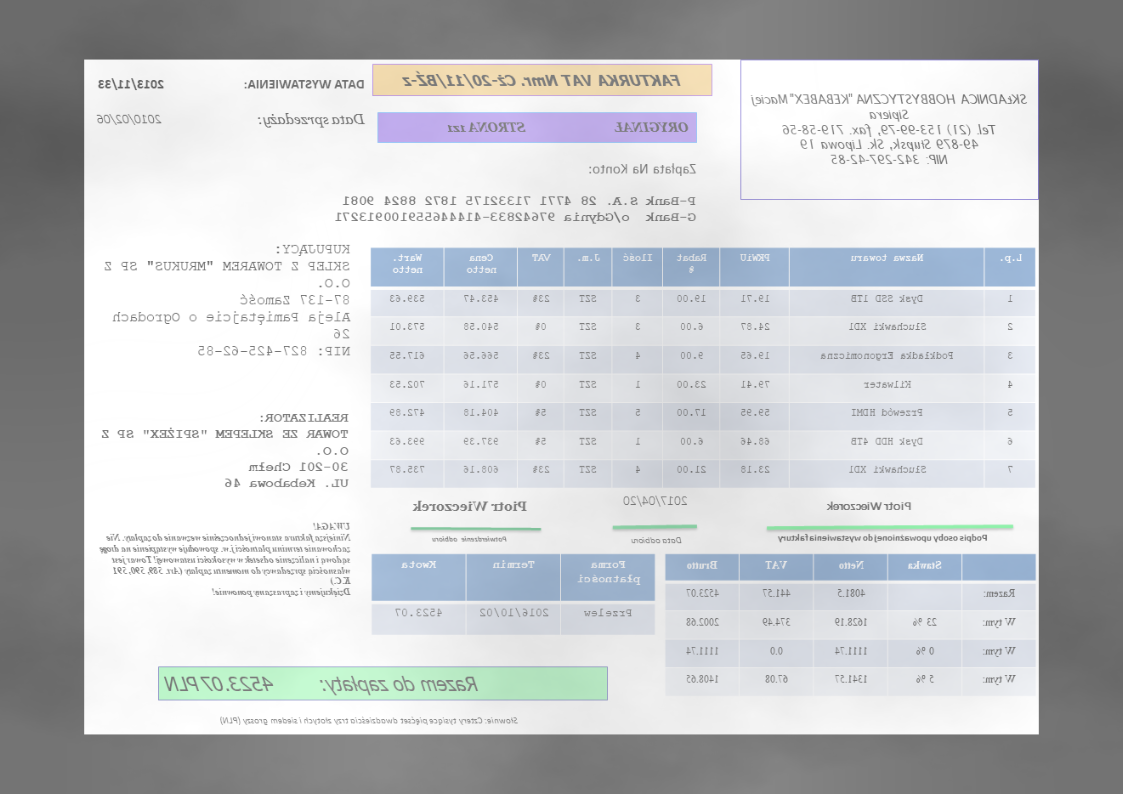Table: (369, 245, 1038, 490), (664, 552, 1038, 698), (370, 551, 657, 636)
TextBox: (100, 240, 354, 361), (747, 89, 1030, 169), (94, 518, 355, 601), (98, 410, 351, 492), (331, 192, 699, 227), (162, 672, 482, 694), (397, 68, 683, 92), (445, 116, 691, 135), (218, 713, 522, 727), (776, 530, 990, 546), (253, 108, 367, 130), (585, 160, 699, 178), (242, 76, 366, 92), (411, 498, 530, 513), (822, 498, 916, 513), (622, 492, 690, 510), (94, 77, 168, 93), (94, 111, 166, 127), (431, 533, 509, 545), (630, 533, 685, 547)
